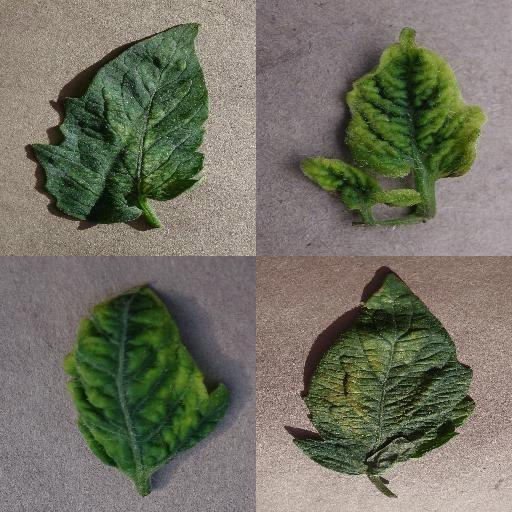Spider Mites: (292, 269, 476, 475), (31, 22, 209, 224)
Yellow Leaf Curl Virus: (67, 283, 229, 473), (343, 28, 487, 182), (288, 150, 424, 216)
